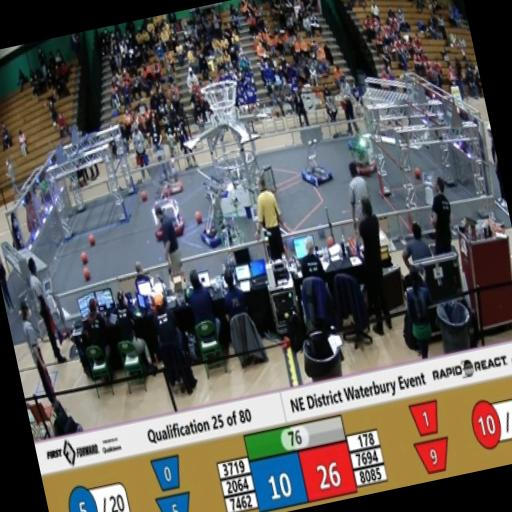robot: (188, 172, 234, 252), (208, 209, 256, 281), (288, 134, 339, 200), (139, 191, 193, 249), (335, 122, 384, 184), (144, 143, 188, 202)
